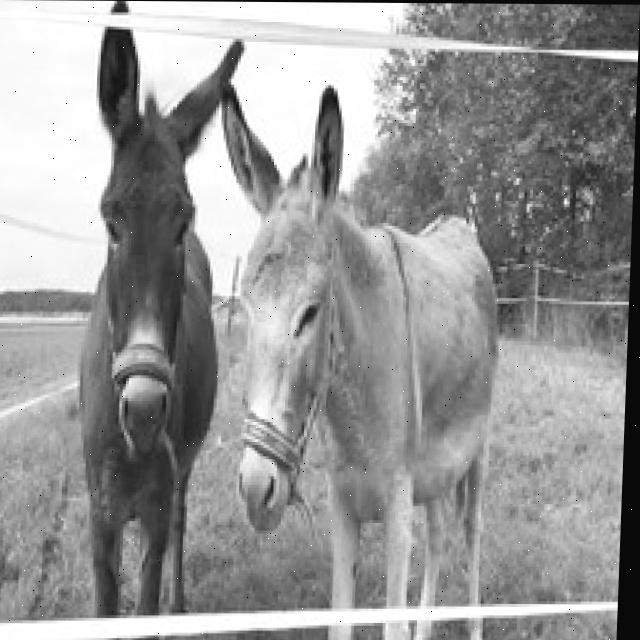Donkey: (194, 70, 509, 640), (68, 1, 246, 639)
